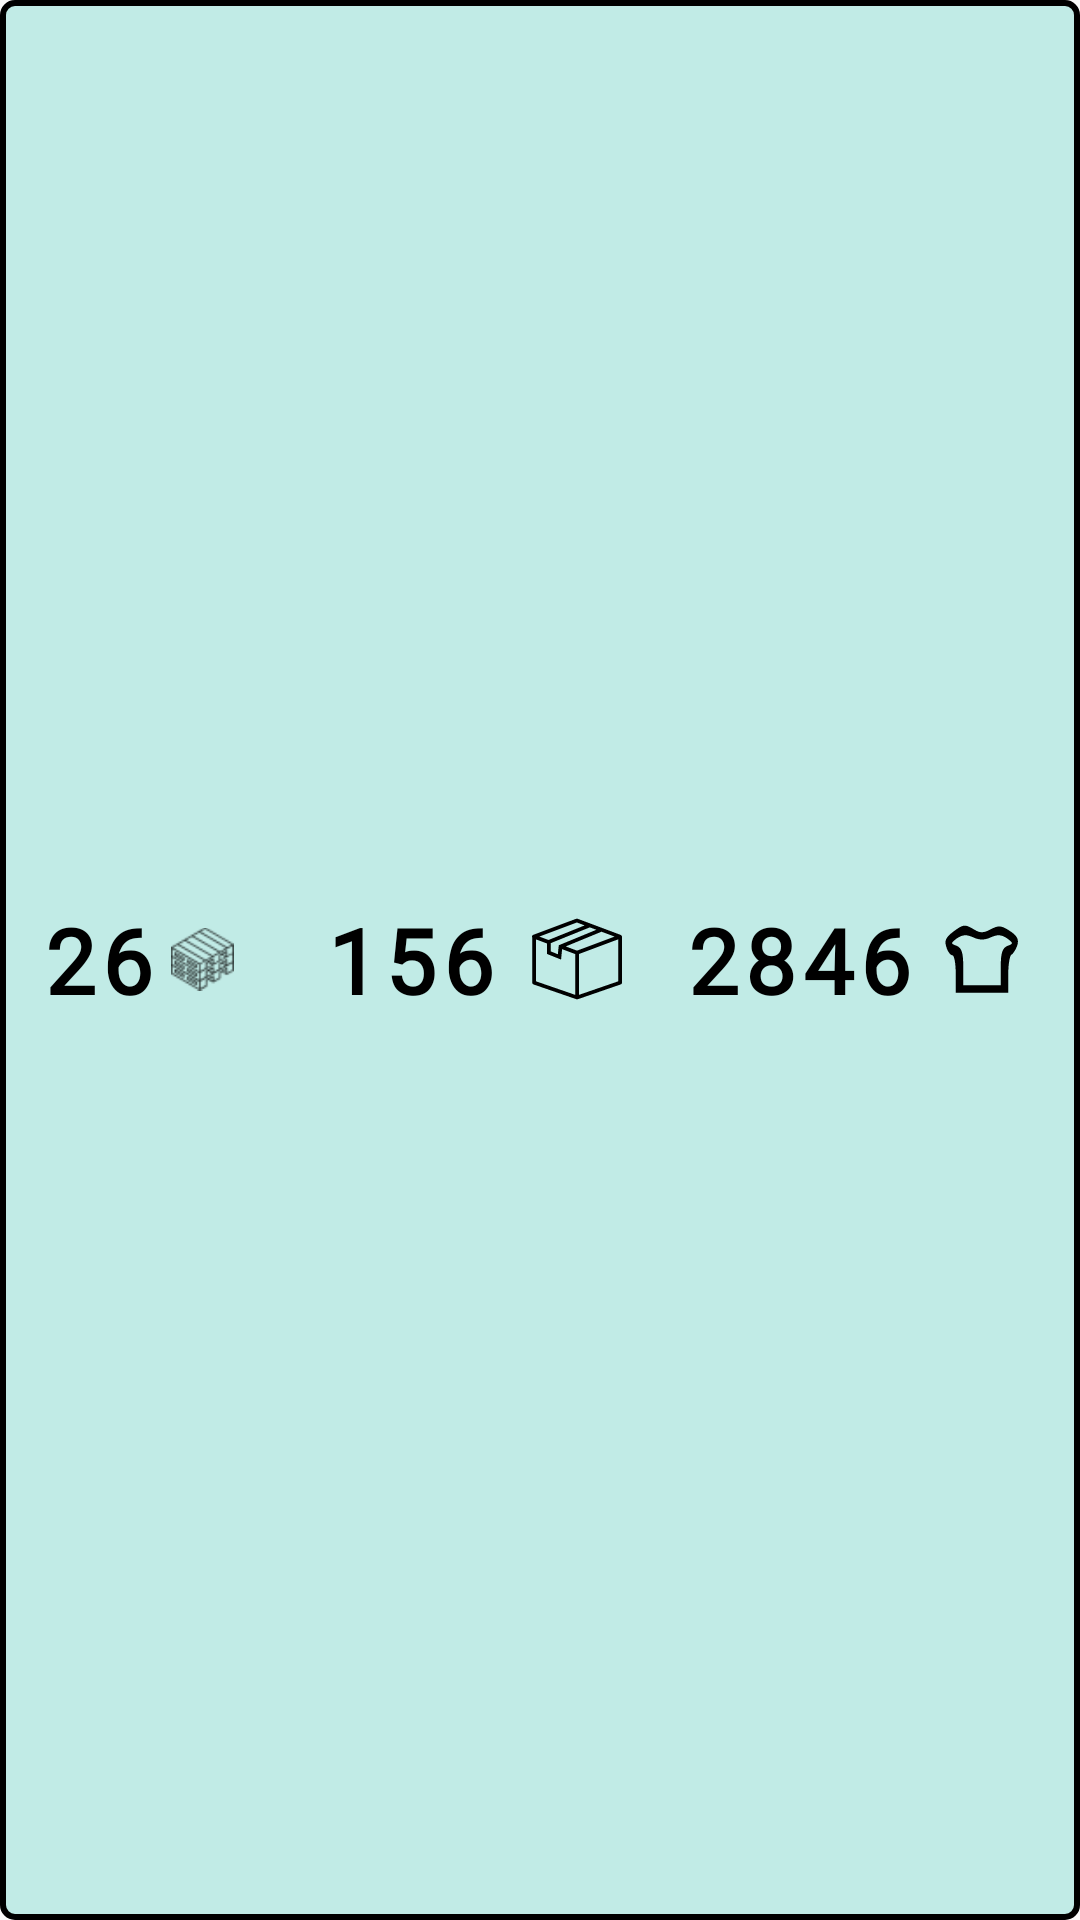

Screen size 1080px×1920px. Icon name, then its center in pixels as (x,y):
caja: (577,959)
palet: (202,959)
